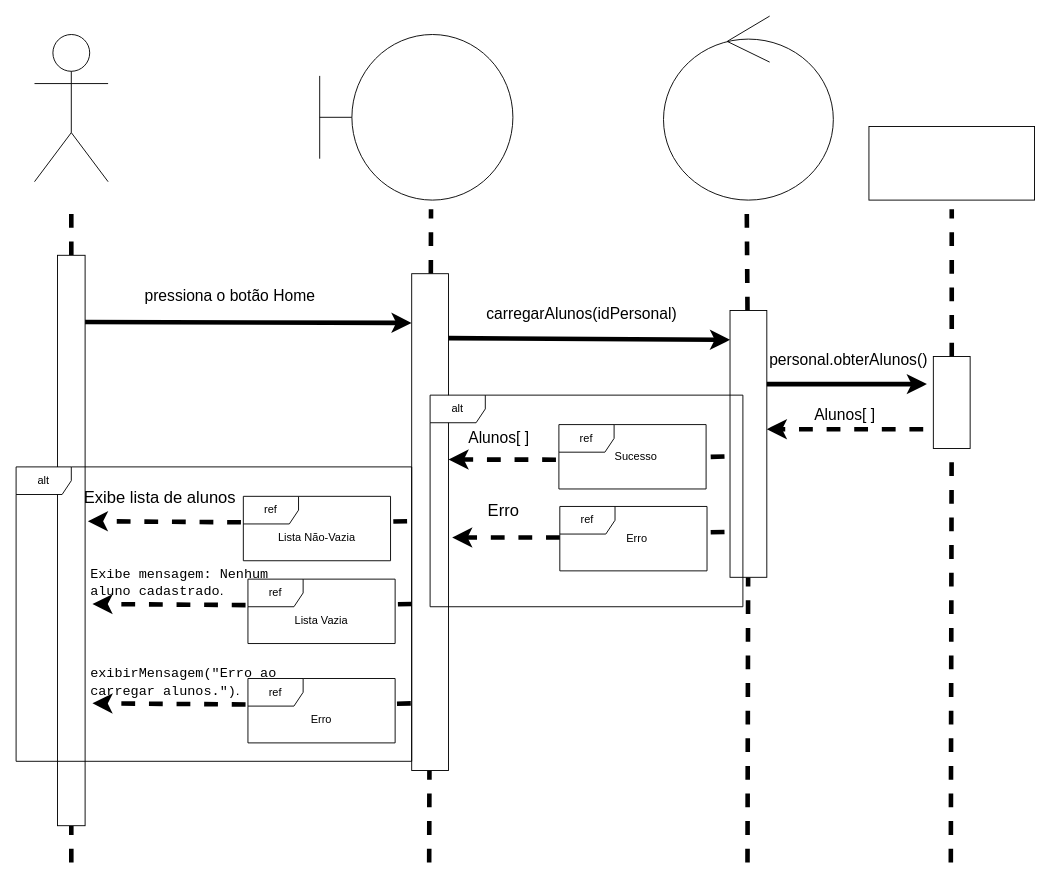
This 1051x881 diagram has some shape labels left out. Each missing label, with the box of its shape:
home_personal_view: (319, 34, 513, 200)
Personal: (34, 34, 108, 182)
personal:Personal: (868, 126, 1035, 200)
personal_control: (663, 15, 833, 200)
